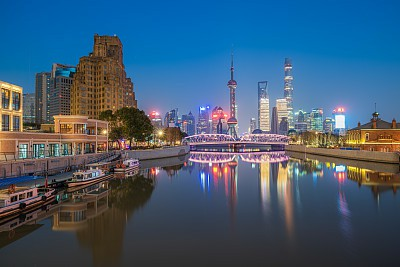Oriental: (225, 52, 238, 136)
